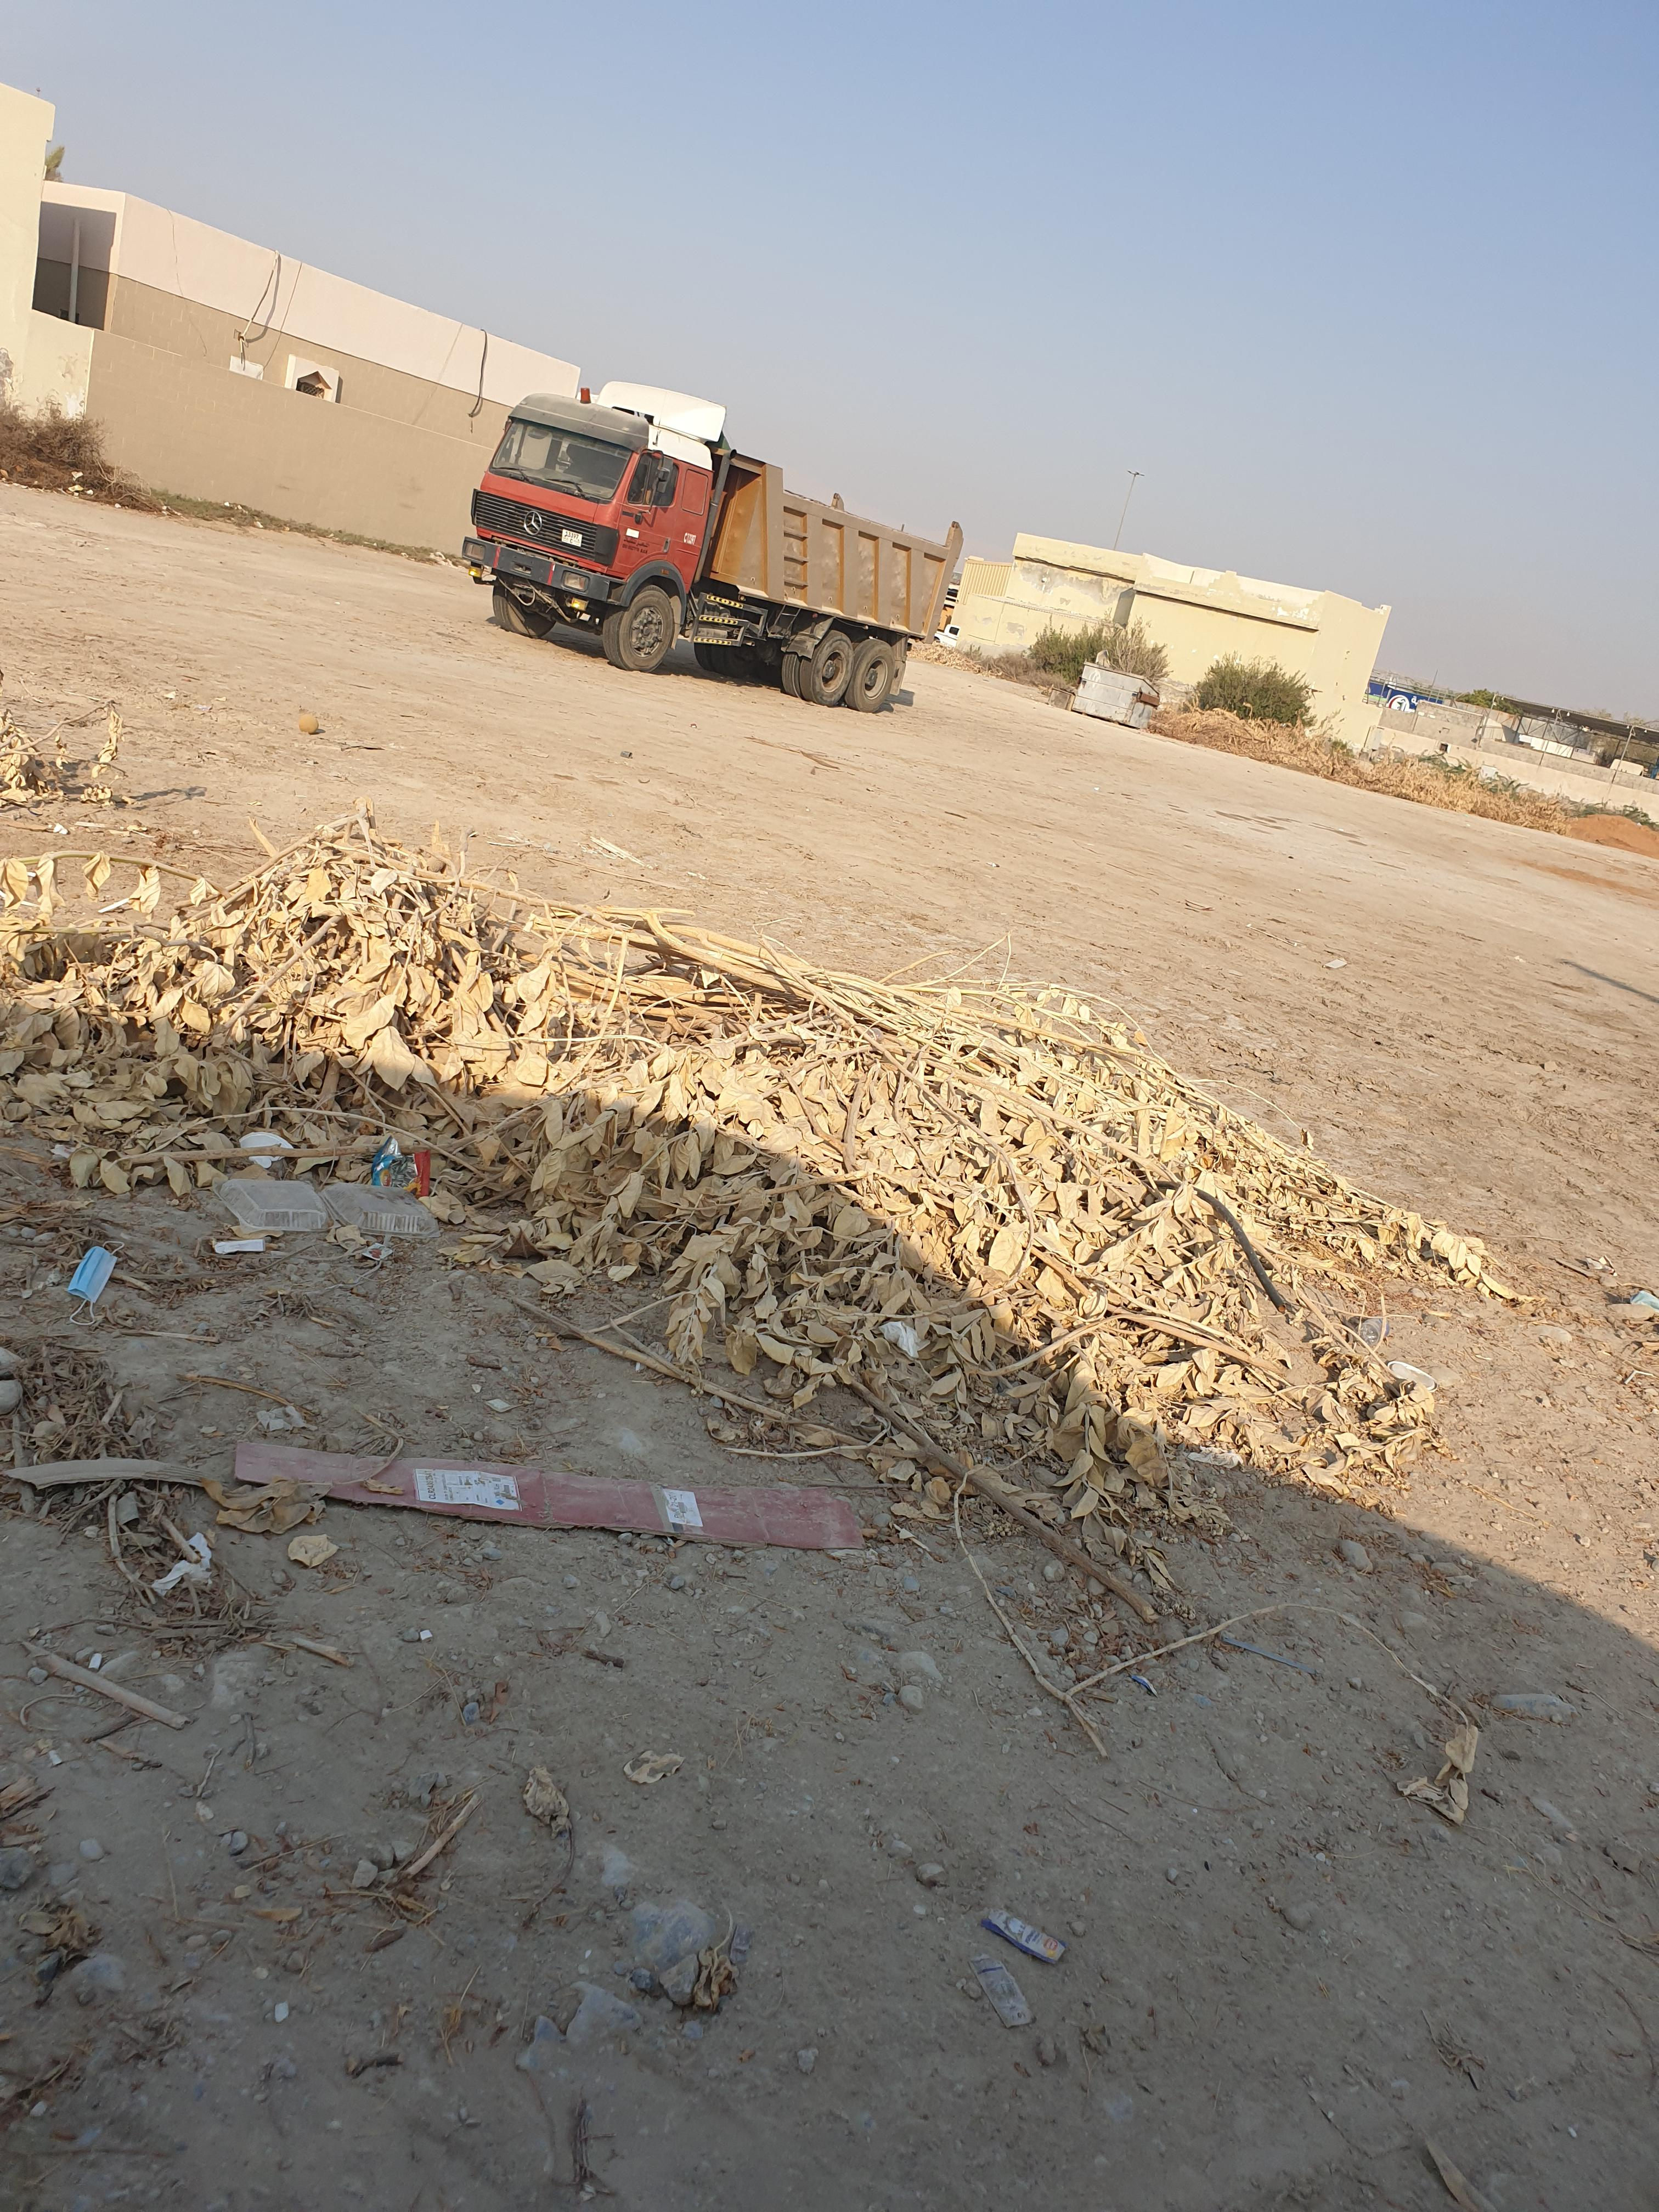fallen_trees: (164, 829, 1222, 1305), (532, 1158, 1401, 1719), (652, 956, 1467, 1477), (19, 643, 181, 850)
